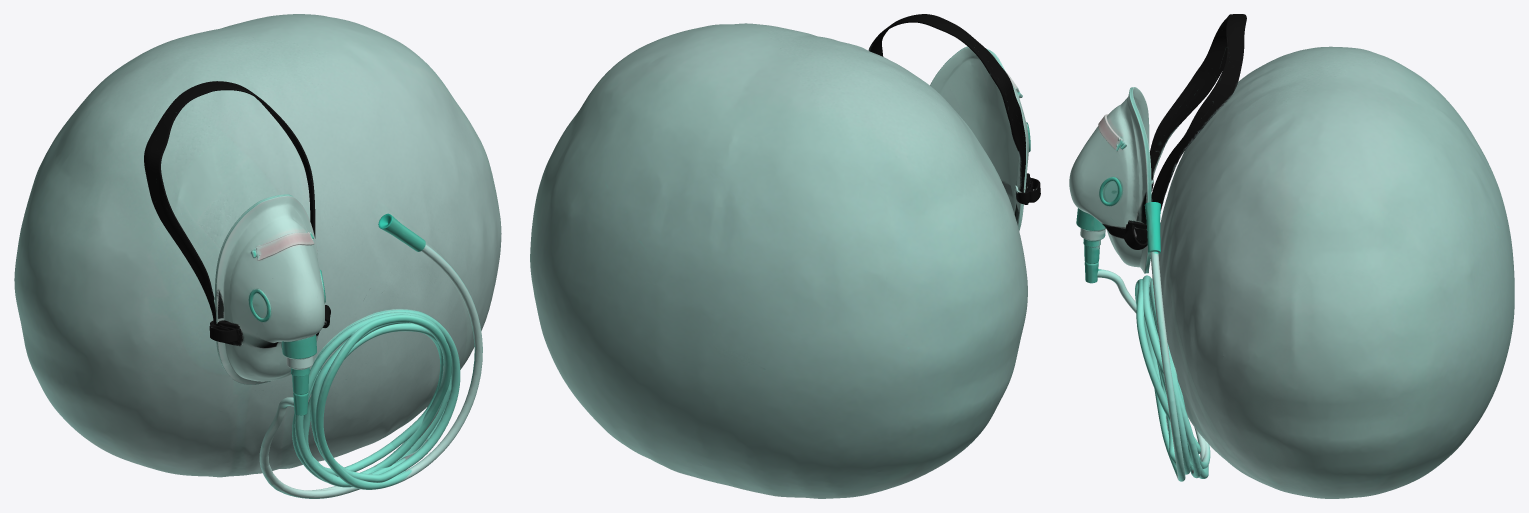
Rendered from OMASK.glb.
3 views of the same model, side by side, from view 1: azimuth 30°, elevation 25°; view 2: azimuth 150°, elevation 25°; view 3: azimuth 270°, elevation 25° (orthographic). The views are drawn at different scales.
Bounding box in the file's own units: 1.9 × 1.74 × 1.77.
Materials: 1 (1 with a texture image).
